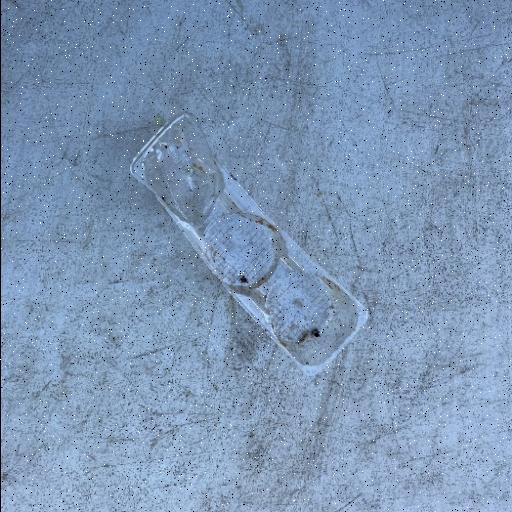Plastic: (124, 110, 370, 372)
